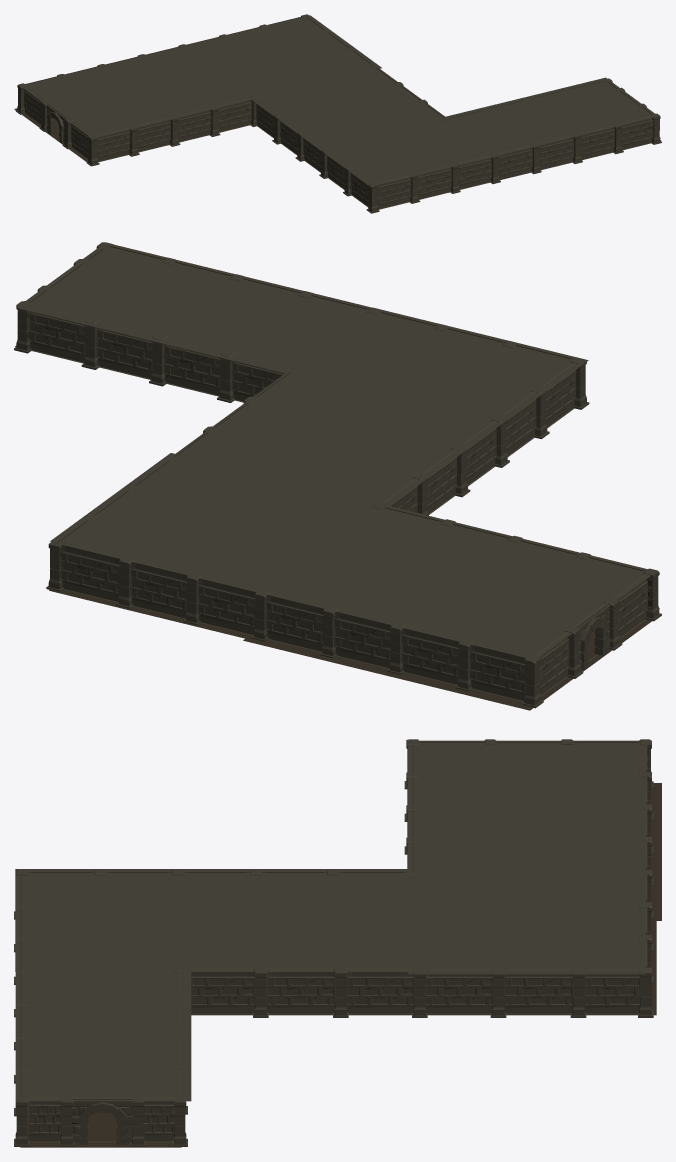
Rendered from 5komnata1lvl.fbx.
3 renders of one model, top to bottom at view 1: azimuth 30°, elevation 25°; view 2: azimuth 150°, elevation 25°; view 3: azimuth 270°, elevation 25°, orthographic. The views are drawn at different scales.
Visible parts, largest first — view 1: криша 2.006, Plane.218, Plane.223, Plane.219, Plane.222, Plane.220, Plane.200, Plane.221, Plane.199, Plane.202, Plane.198, Plane.224 (+10 smaller); view 2: криша 2.006, Plane.114, Plane.201, Plane.194, Plane.193, Plane.195, Plane.196, Plane.197, Plane.192, Plane.212, Plane.210, Plane.211 (+9 smaller); view 3: криша 2.006, Plane.114, Plane.207, Plane.206, Plane.204, Plane.205, Plane.208, Plane.203, Plane.499, Plane.112, Plane.225, Cube.195 (+9 smaller).
Boxes of the visible parts, x1,y1,x2,y2 form: криша 2.006: (22,15,654,186); Plane.218: (377,175,411,209); Plane.223: (538,135,573,169); Plane.219: (416,165,452,199); Plane.222: (579,125,614,159); Plane.220: (497,145,532,179); Plane.200: (217,98,251,132); Plane.221: (457,155,491,189); Plane.199: (136,117,170,152); Plane.202: (176,108,211,142); Plane.198: (96,127,130,161); Plane.224: (620,115,653,149); криша 2.006: (16,244,650,657); Plane.114: (15,346,652,710); Plane.201: (60,544,119,602); Plane.194: (266,594,324,652); Plane.193: (401,627,459,685); Plane.195: (198,577,255,635); Plane.196: (334,611,392,668); Plane.197: (130,561,188,618); Plane.192: (469,644,527,701); Plane.212: (28,305,86,362); Plane.210: (163,338,221,396); Plane.211: (96,321,154,379); криша 2.006: (15,740,645,1101); Plane.114: (20,783,661,1147); Plane.207: (266,969,335,1013); Plane.206: (346,969,414,1013); Plane.204: (503,969,573,1013); Plane.205: (425,969,493,1013); Plane.208: (185,969,255,1013); Plane.203: (584,969,651,1013); Plane.499: (68,1099,136,1144); Plane.112: (28,1097,61,1142); Plane.225: (141,1097,175,1142); Cube.195: (172,1097,187,1146).
Bounding box in the file's own units: 13934 × 868 × 10445.
